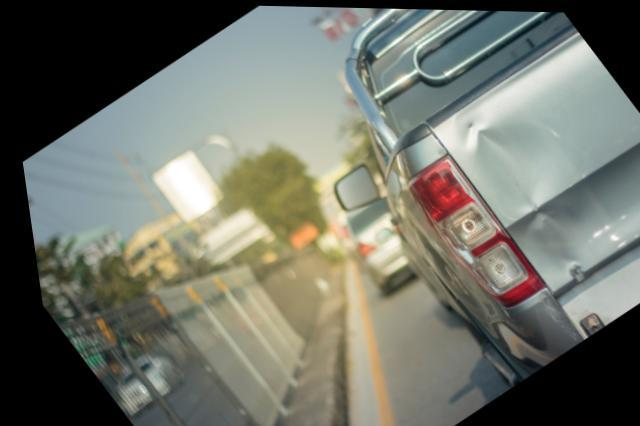dent: (450, 103, 602, 264)
lamp broken: (403, 151, 539, 306)
